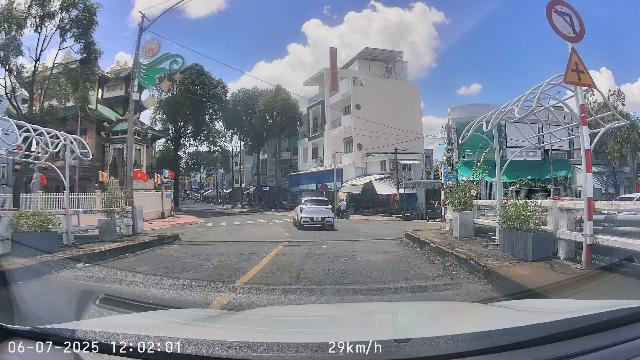123a-cam-re-trai: (545, 0, 586, 44)
